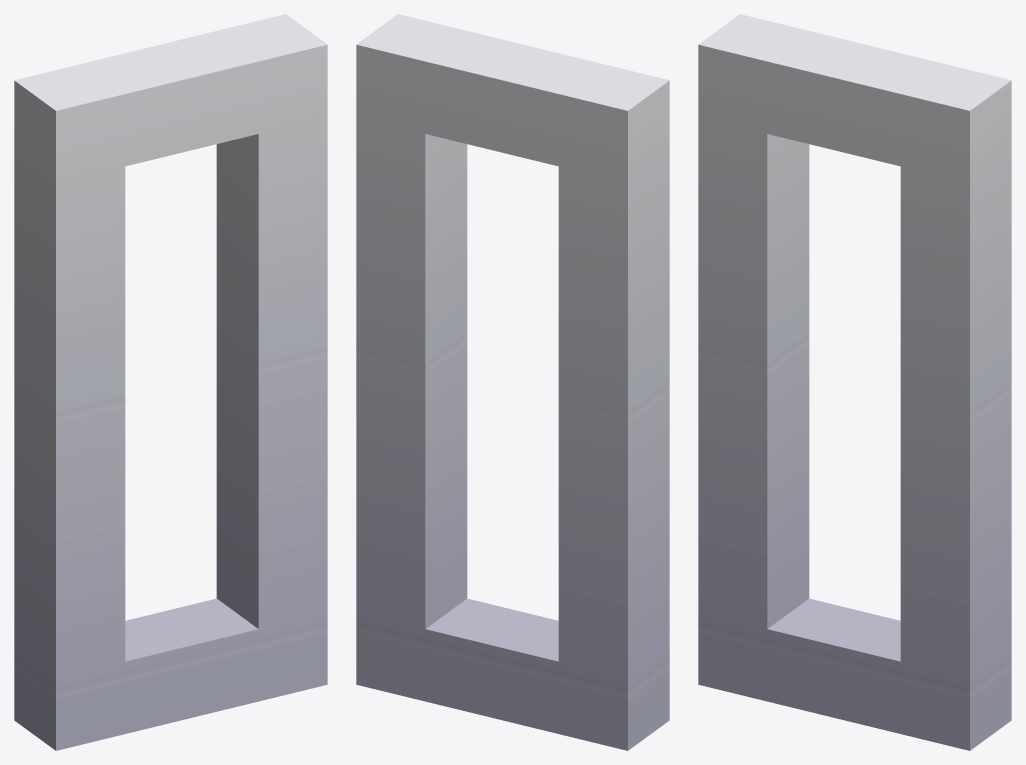
File: window-white-narrow.glb
The picture shows the model from 3 angles, left to right: view 1: azimuth 30°, elevation 25°; view 2: azimuth 150°, elevation 25°; view 3: azimuth 330°, elevation 25°; orthographic projection.
Parts seen in each view (by area): view 1: window-white-narrow; view 2: window-white-narrow; view 3: window-white-narrow.
Boxes of the visible parts, x1=… form: window-white-narrow: x1=14, y1=14, x2=327, y2=750; window-white-narrow: x1=356, y1=14, x2=669, y2=750; window-white-narrow: x1=698, y1=14, x2=1011, y2=750.
Bounding box in the file's own units: 0.1875 × 0.4219 × 0.05.
1 material, 1 textured.
